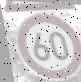Speed Limit -60-: (8, 10, 81, 82)
